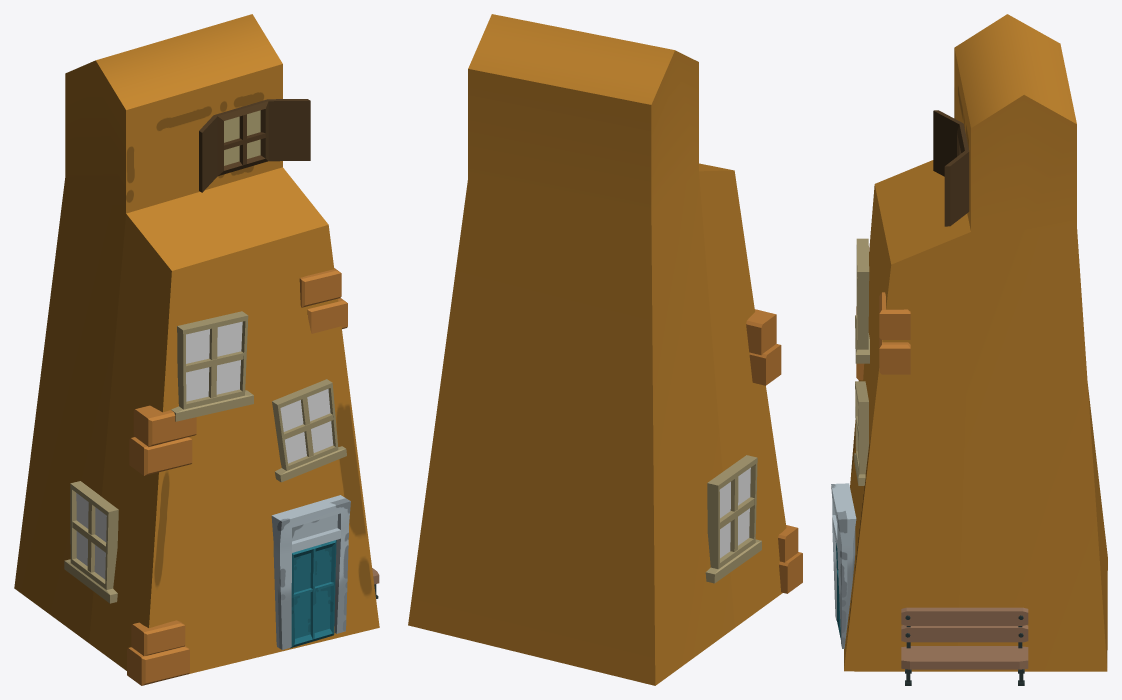
Rendered from casaxcrema.fbx.
3 renders of one model, left to right at view 1: azimuth 30°, elevation 25°; view 2: azimuth 150°, elevation 25°; view 3: azimuth 270°, elevation 25°, orthographic. The views are drawn at different scales.
Parts seen in each view (by area): view 1: pCube2.001, VENTANA1.001, Cube.081, MARCOS2.001, Cube.082, Cube.087, pCube7.001, Cube.085, Cube.043, Cube.024, Cube.086, Cube.083 (+1 smaller); view 2: pCube2.001, Cube.087, Cube.024, Cube.043, Cube.085, Cube.086; view 3: pCube2.001, Cube.088, VENTANA1.001, MARCOS2.001, Cube.081, Cube.082, Cube.083, Cube.084.
Part boxes in pixels (box(x1,y1,x2,y2)): pCube2.001: box(14, 14, 379, 673); VENTANA1.001: box(199, 99, 310, 192); Cube.081: box(171, 311, 253, 421); MARCOS2.001: box(271, 495, 350, 649); Cube.082: box(272, 379, 346, 482); Cube.087: box(64, 481, 118, 603); pCube7.001: box(290, 540, 336, 648); Cube.085: box(127, 646, 189, 685); Cube.043: box(129, 437, 192, 475); Cube.024: box(133, 405, 196, 446); Cube.086: box(131, 620, 185, 655); Cube.083: box(299, 268, 341, 307); pCube2.001: box(408, 14, 786, 685); Cube.087: box(705, 455, 761, 583); Cube.024: box(746, 309, 776, 355); Cube.043: box(749, 344, 781, 385); Cube.085: box(779, 552, 802, 593); Cube.086: box(778, 525, 798, 562); pCube2.001: box(844, 14, 1107, 671); Cube.088: box(901, 607, 1028, 685); VENTANA1.001: box(933, 110, 969, 226); MARCOS2.001: box(831, 483, 856, 648); Cube.081: box(855, 238, 869, 363); Cube.082: box(854, 381, 868, 485); Cube.083: box(879, 292, 910, 339); Cube.084: box(879, 338, 910, 374).
Size of the model in its own units: 575 by 1133 by 509.
